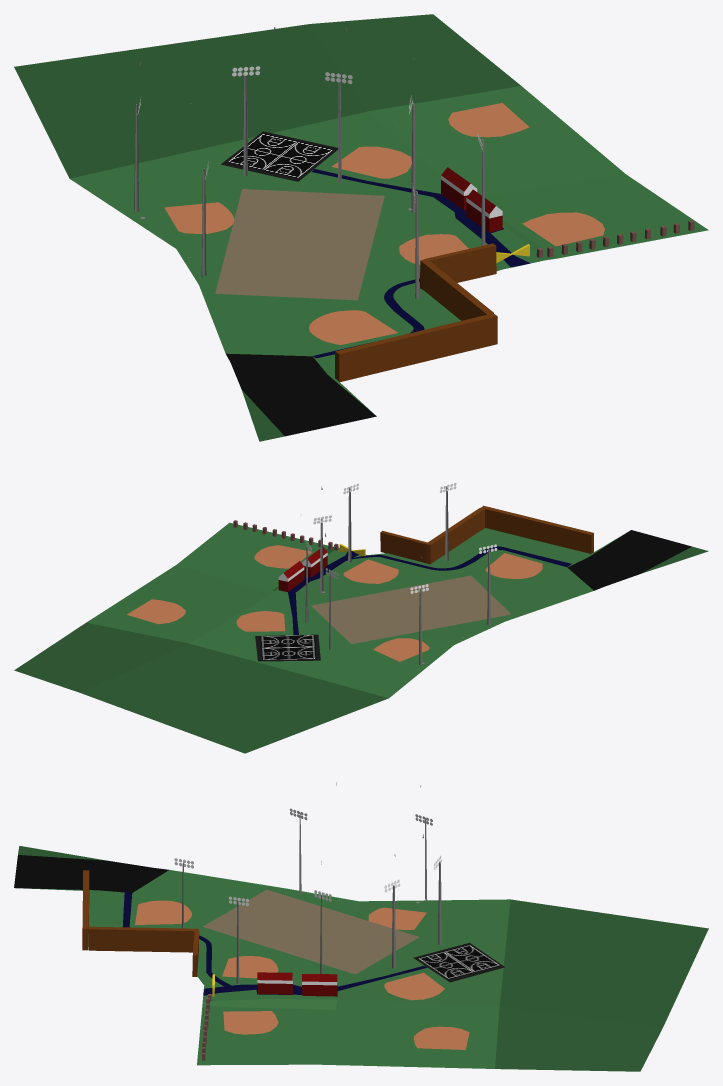
The model's file is capefield19.glb.
The picture shows the model from 3 angles, top to bottom: view 1: azimuth 30°, elevation 25°; view 2: azimuth 150°, elevation 25°; view 3: azimuth 270°, elevation 25°; orthographic projection. The views are drawn at different scales.
Visible parts, largest first — view 1: capefieldall.006, Cylinder.016; view 2: capefieldall.006, Cylinder.016; view 3: capefieldall.006, Cylinder.016.
Boxes of the visible parts, <box> form: capefieldall.006: <box>14,14,708,441</box>; Cylinder.016: <box>134,66,485,299</box>; capefieldall.006: <box>14,486,708,753</box>; Cylinder.016: <box>305,483,497,665</box>; capefieldall.006: <box>14,782,708,1071</box>; Cylinder.016: <box>174,808,441,983</box>.
Size of the model in its own units: 0.3737 by 0.1011 by 0.508.
Materials: 14 (1 with a texture image).
